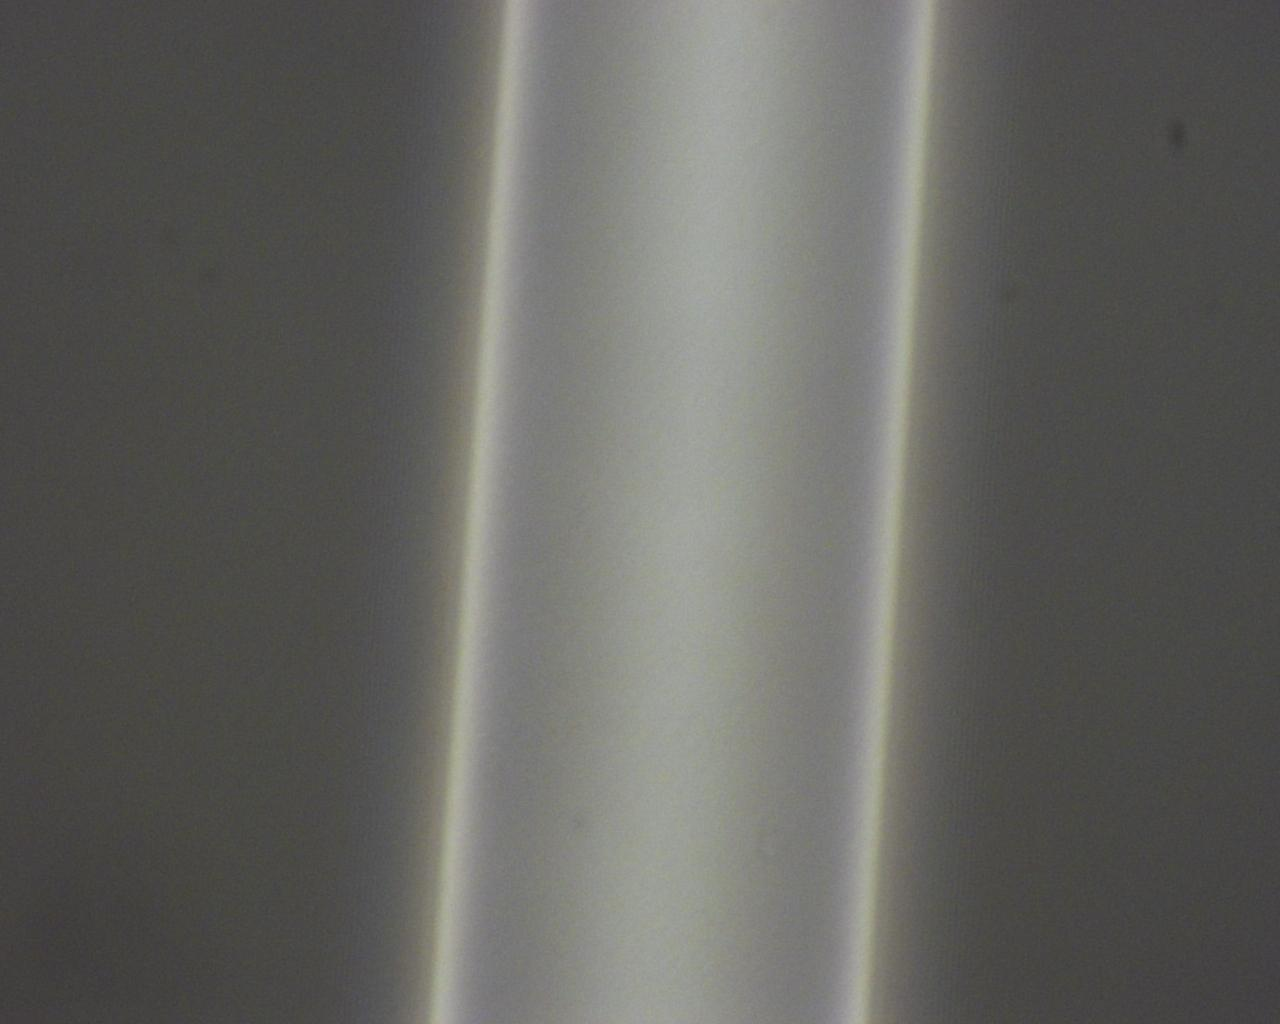fiber: (129, 0, 355, 655), (1102, 0, 1158, 655)
